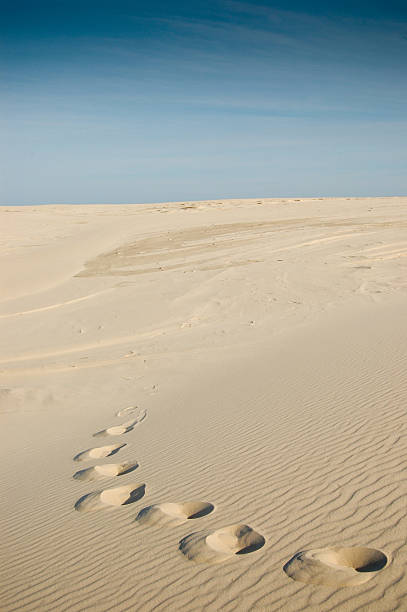human_footprint: (283, 546, 388, 586), (179, 524, 265, 563), (74, 483, 145, 511), (136, 501, 214, 526), (93, 406, 146, 436), (73, 461, 138, 481), (73, 443, 126, 462), (93, 419, 136, 437), (116, 406, 146, 423)
